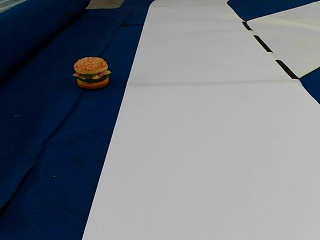burger: (73, 55, 110, 88)
